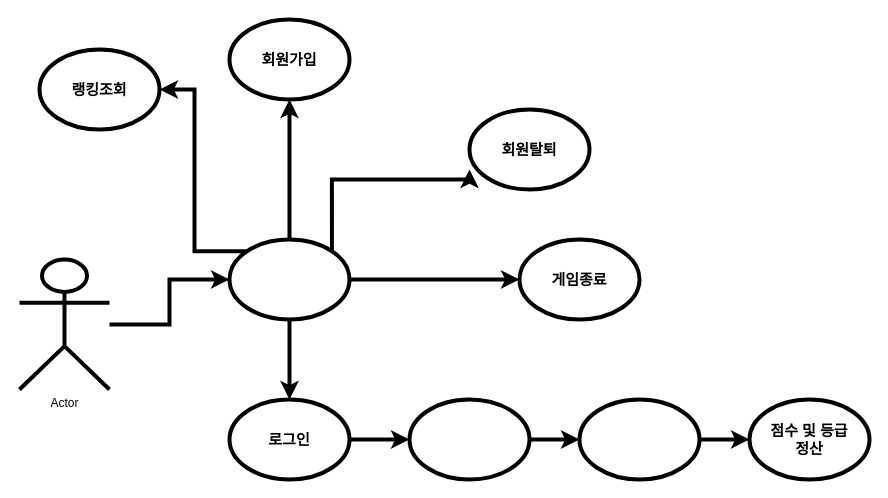
This 888x498 diagram has some shape labels left out. Each missing label, with the centre of its shape:
난이도 선택: [469,439]
메인 페이지: [289,279]
행맨게임: [639,439]
